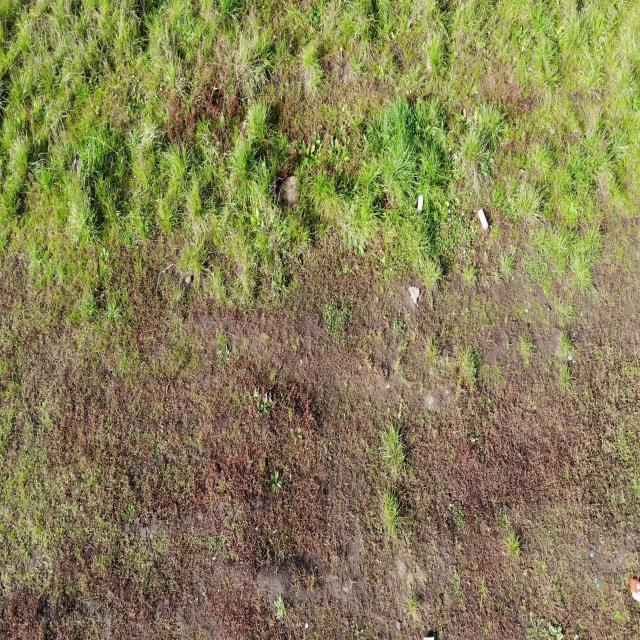rubbish: (476, 208, 490, 233), (630, 577, 640, 603), (417, 194, 425, 218)
